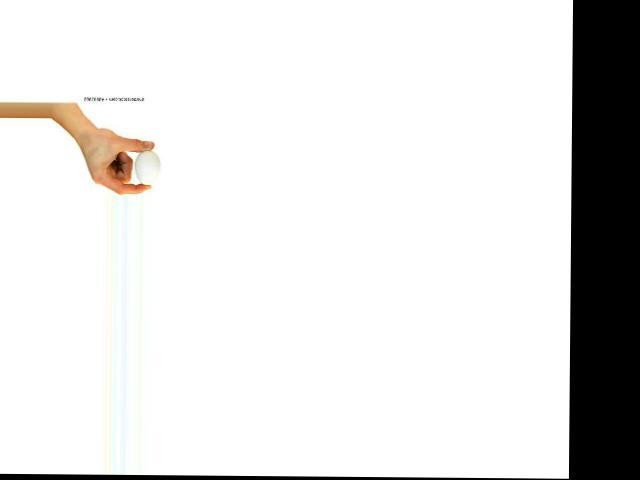egg: (134, 149, 159, 185)
